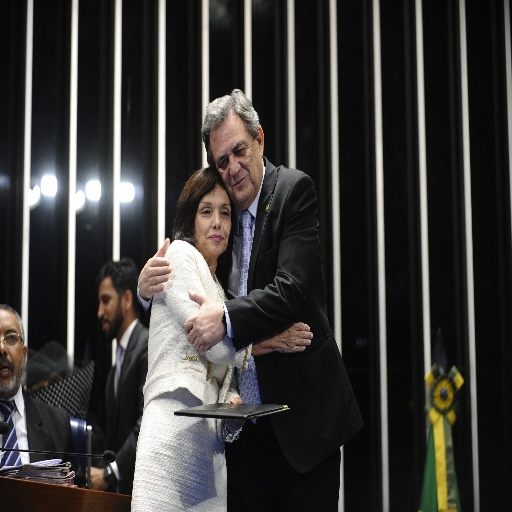hand: (182, 288, 229, 358), (135, 251, 178, 305), (275, 322, 313, 356), (223, 391, 246, 435), (82, 464, 110, 491)
